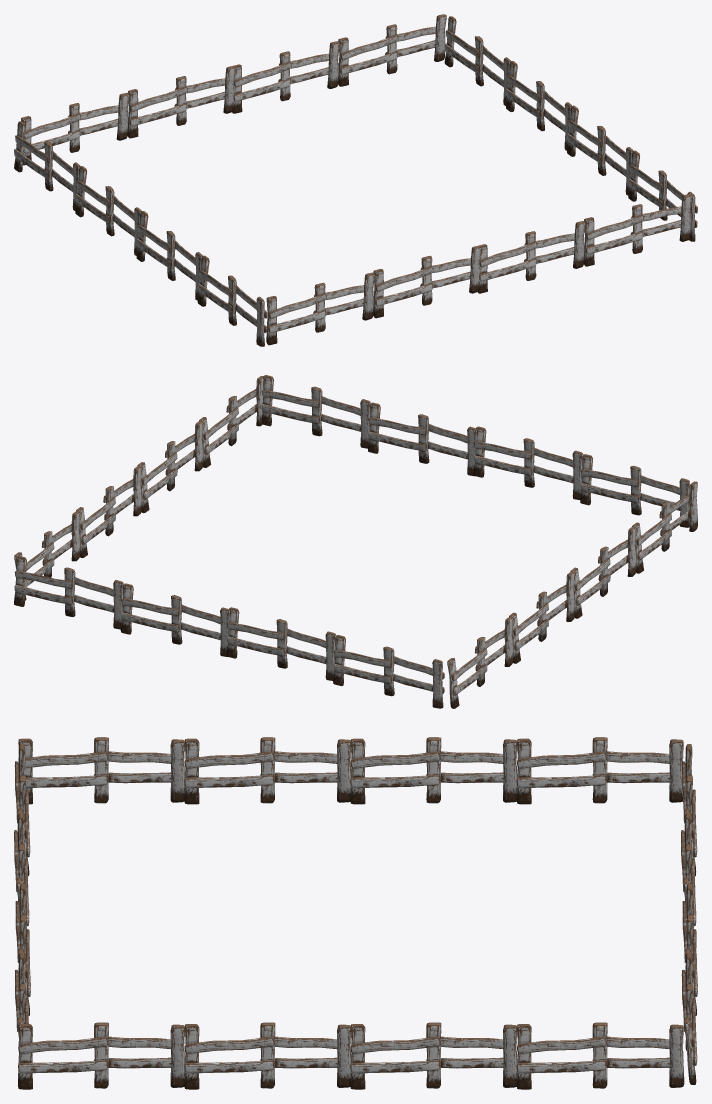
Rendered from Fences.obj.
The picture shows the model from 3 angles, top to bottom: view 1: azimuth 30°, elevation 25°; view 2: azimuth 150°, elevation 25°; view 3: azimuth 270°, elevation 25°; orthographic projection. The views are drawn at different scales.
Visible parts, largest first — view 1: g_Group3428_Mesh, g_Group3428.002_Mesh.002, g_Group3428.009_Mesh.017, g_Group3428.001_Mesh.001, g_Group3428.010_Mesh.018, g_Group3428.008_Mesh.016, g_Group3428.003_Mesh.003, g_Group3428.011_Mesh.019, g_Group3428.015_Mesh.023, g_Group3428.005_Mesh.013, g_Group3428.006_Mesh.014, g_Group3428.007_Mesh.015 (+4 smaller); view 2: g_Group3428.011_Mesh.019, g_Group3428.001_Mesh.001, g_Group3428.002_Mesh.002, g_Group3428.009_Mesh.017, g_Group3428.010_Mesh.018, g_Group3428.008_Mesh.016, g_Group3428.003_Mesh.003, g_Group3428_Mesh, g_Group3428.013_Mesh.021, g_Group3428.005_Mesh.013, g_Group3428.014_Mesh.022, g_Group3428.012_Mesh.020 (+4 smaller); view 3: g_Group3428.006_Mesh.014, g_Group3428.014_Mesh.022, g_Group3428.013_Mesh.021, g_Group3428.012_Mesh.020, g_Group3428.004_Mesh.012, g_Group3428.005_Mesh.013, g_Group3428.007_Mesh.015, g_Group3428.015_Mesh.023, g_Group3428.009_Mesh.017, g_Group3428.008_Mesh.016, g_Group3428.003_Mesh.003, g_Group3428_Mesh (+4 smaller).
Boxes of the visible parts, left/top/right/bottom form: g_Group3428_Mesh: left=266, top=272, right=374, bottom=345; g_Group3428.002_Mesh.002: left=583, top=194, right=692, bottom=266; g_Group3428.009_Mesh.017: left=338, top=14, right=446, bottom=86; g_Group3428.001_Mesh.001: left=373, top=245, right=481, bottom=318; g_Group3428.010_Mesh.018: left=127, top=66, right=236, bottom=138; g_Group3428.008_Mesh.016: left=232, top=41, right=339, bottom=113; g_Group3428.003_Mesh.003: left=478, top=221, right=585, bottom=293; g_Group3428.011_Mesh.019: left=21, top=93, right=129, bottom=165; g_Group3428.015_Mesh.023: left=197, top=255, right=267, bottom=346; g_Group3428.005_Mesh.013: left=567, top=105, right=633, bottom=195; g_Group3428.006_Mesh.014: left=444, top=16, right=510, bottom=105; g_Group3428.007_Mesh.015: left=506, top=61, right=571, bottom=150; g_Group3428.011_Mesh.019: left=333, top=635, right=444, bottom=708; g_Group3428.001_Mesh.001: left=473, top=426, right=583, bottom=499; g_Group3428.002_Mesh.002: left=261, top=375, right=370, bottom=448; g_Group3428.009_Mesh.017: left=14, top=556, right=123, bottom=629; g_Group3428.010_Mesh.018: left=226, top=607, right=335, bottom=680; g_Group3428.008_Mesh.016: left=120, top=583, right=229, bottom=656; g_Group3428.003_Mesh.003: left=368, top=402, right=476, bottom=476; g_Group3428_Mesh: left=580, top=454, right=689, bottom=527; g_Group3428.013_Mesh.021: left=447, top=616, right=513, bottom=708; g_Group3428.005_Mesh.013: left=137, top=421, right=203, bottom=513; g_Group3428.014_Mesh.022: left=570, top=526, right=636, bottom=618; g_Group3428.012_Mesh.020: left=509, top=571, right=574, bottom=663; g_Group3428.006_Mesh.014: left=516, top=1022, right=684, bottom=1089; g_Group3428.014_Mesh.022: left=184, top=737, right=351, bottom=804; g_Group3428.013_Mesh.021: left=516, top=737, right=683, bottom=804; g_Group3428.012_Mesh.020: left=350, top=737, right=517, bottom=804; g_Group3428.004_Mesh.012: left=18, top=1022, right=185, bottom=1089; g_Group3428.005_Mesh.013: left=184, top=1022, right=351, bottom=1089; g_Group3428.007_Mesh.015: left=350, top=1022, right=517, bottom=1089; g_Group3428.015_Mesh.023: left=18, top=737, right=185, bottom=804; g_Group3428.009_Mesh.017: left=681, top=952, right=697, bottom=1084; g_Group3428.008_Mesh.016: left=682, top=883, right=697, bottom=1015; g_Group3428.003_Mesh.003: left=15, top=883, right=30, bottom=1015; g_Group3428_Mesh: left=14, top=744, right=30, bottom=876.
Size of the model in its own units: 12.82 by 1.35 by 12.7.
Materials: 16 (16 with a texture image).
